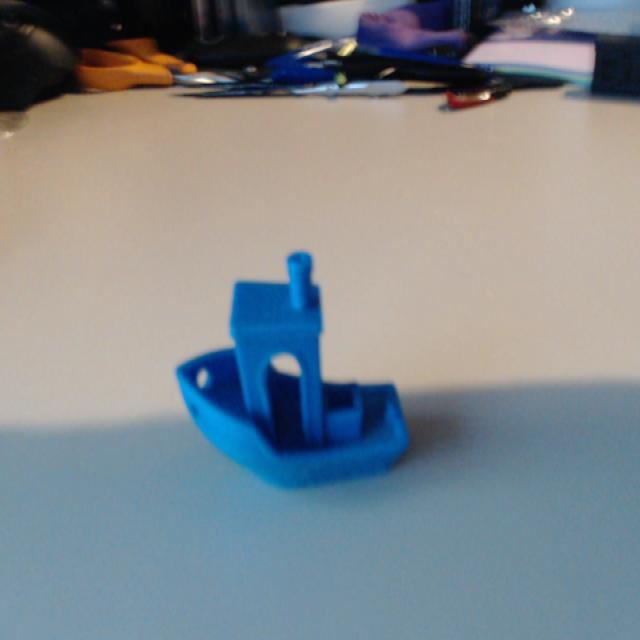benchy: (173, 245, 412, 491)
